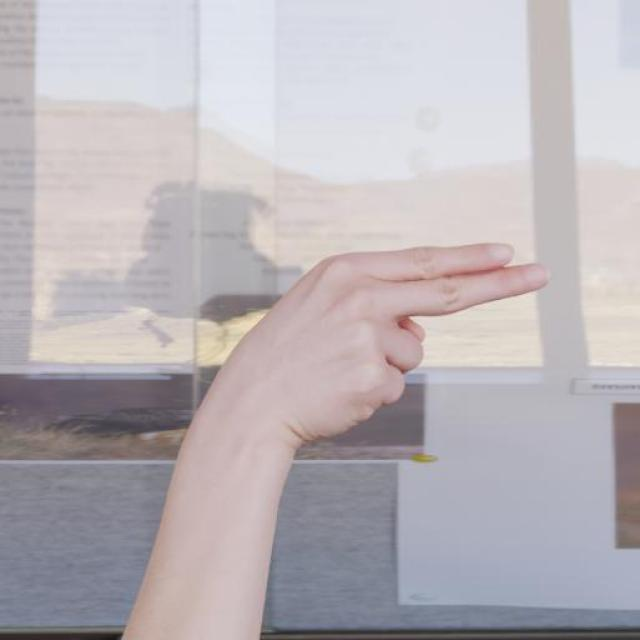H: (224, 239, 557, 442)
